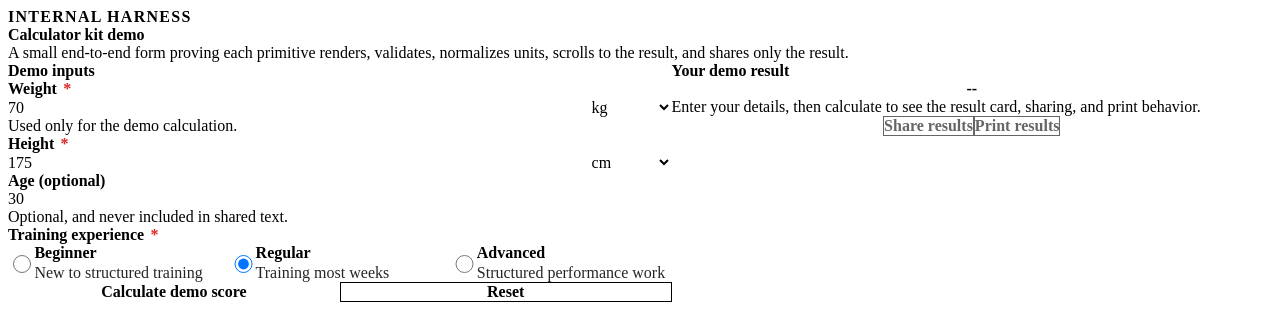
it: CalculatorKitDemo › round-trips pounds and feet/inches through normalized units
This screenshot has width=1280, height=319.
Select "lbs" in the dropdown named "Weight unit" at (630, 108), box [588,98,672,117]
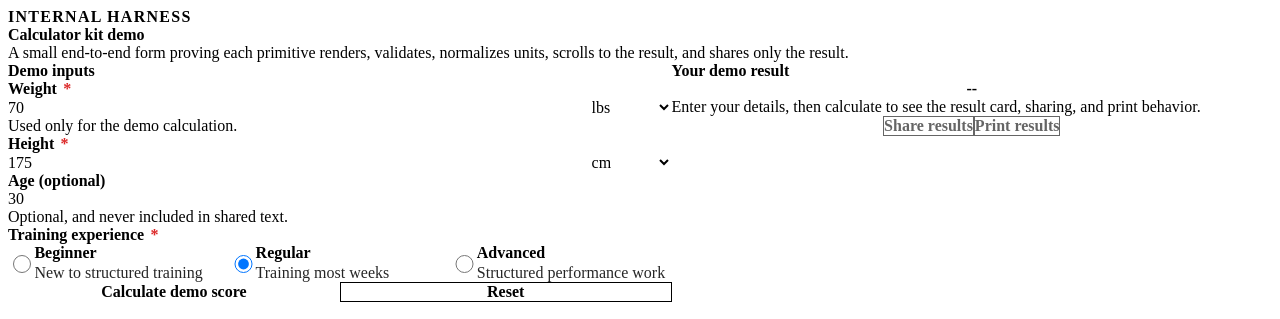
Replace the text in the number field named "weight" with "154.3" at (298, 108), box [8,98,588,117]
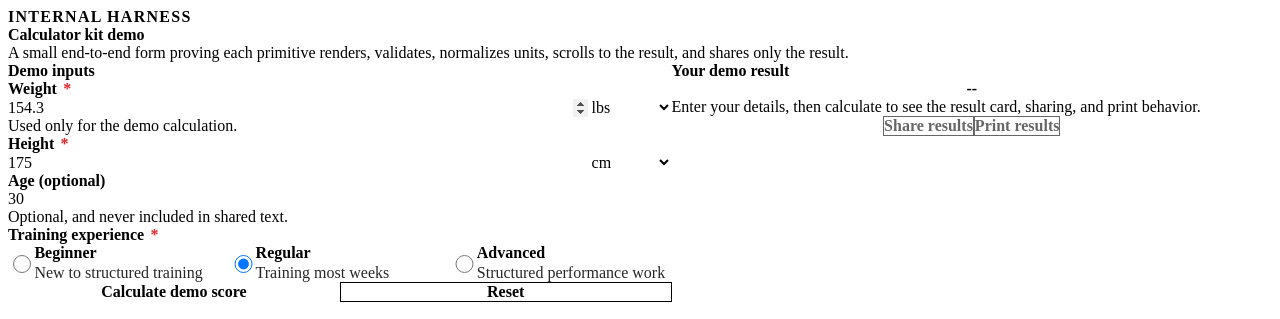
Select "ft" in the dropdown named "Height unit" at (630, 162), box [588,153,672,172]
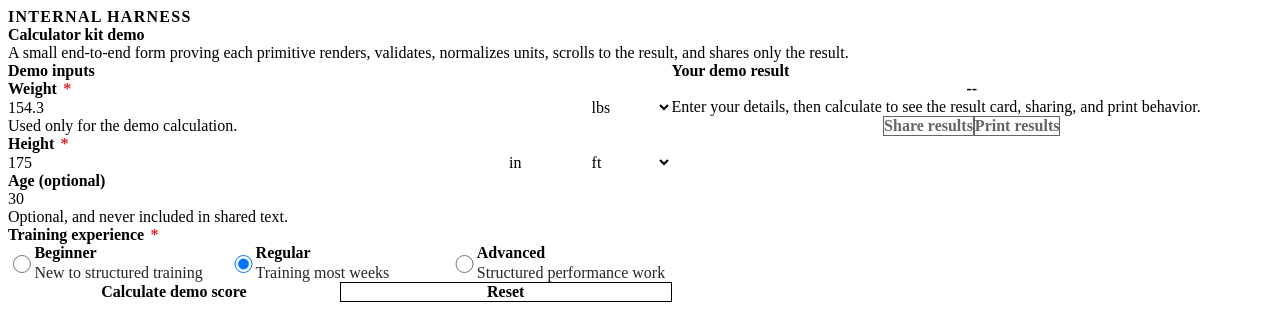
Replace the text in the number field named "Feet" with "5" at (259, 162), box [8,153,509,172]
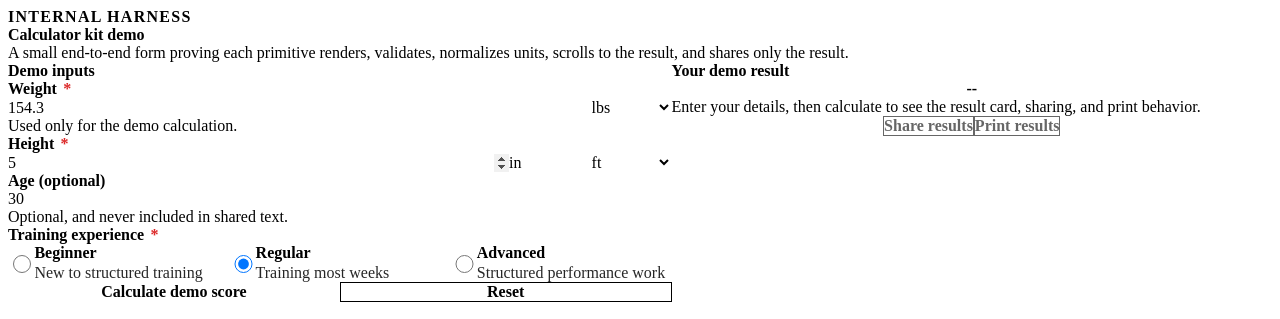
Type "9" into the number field named "Inches".
click(548, 162); type("9")  # box [509,153,588,172]
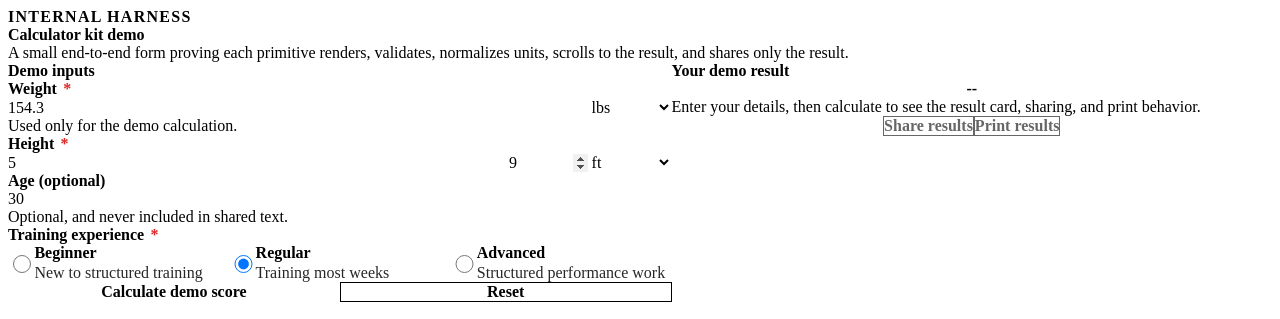
Click the button "Calculate demo score".
click(174, 292)  # box [8,282,340,302]
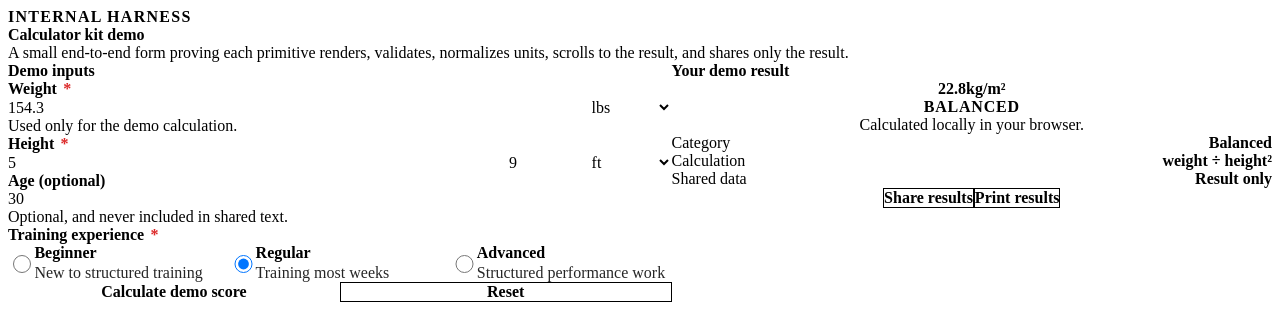
Result: the element "Your demo result" shows "22.8" at [938,80,966,97]
Result: the element "Your demo result" shows "Balanced" at [924,98,1020,115]
